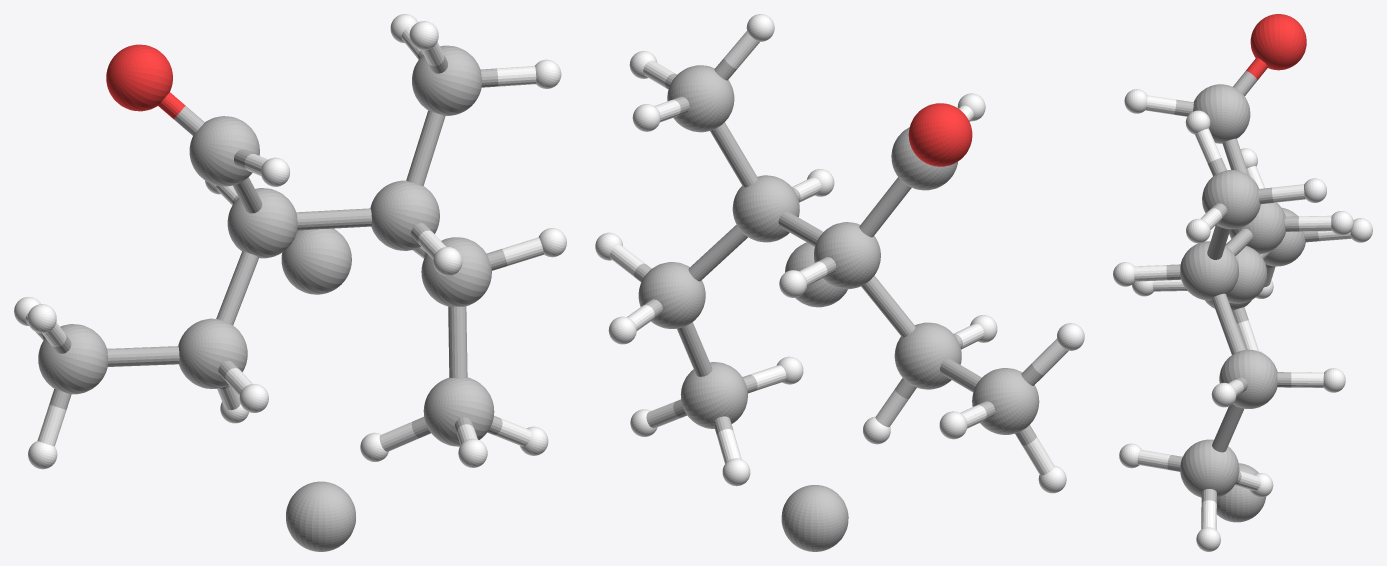
The model's file is 2 – etil – 3 – metil   Pentanal.fbx.
The picture shows the model from 3 angles, left to right: view 1: azimuth 30°, elevation 25°; view 2: azimuth 150°, elevation 25°; view 3: azimuth 270°, elevation 25°; orthographic projection. The views are drawn at different scales.
Parts seen in each view (by area): view 1: Carbon_ball, Carbon_ball.008, Carbon_mesh|Carbon_ball.008|Dupli|4, Carbon_mesh|Carbon_ball.008|Dupli|2, Carbon_mesh|Carbon_ball.008|Dupli|, Carbon_mesh|Carbon_ball.008|Dupli|1, Oxygen_mesh|Oxygen_ball.008|Dupli|, Carbon_mesh|Carbon_ball.008|Dupli|5, Carbon_mesh|Carbon_ball.008|Dupli|7, Carbon_mesh|Carbon_ball.008|Dupli|6, Carbon_mesh|Carbon_ball.008|Dupli|3, Hydrogen_mesh|Hydrogen_ball.008|Dupli|10 (+5 smaller); view 2: Carbon_ball, Carbon_mesh|Carbon_ball.008|Dupli|2, Carbon_mesh|Carbon_ball.008|Dupli|4, Carbon_mesh|Carbon_ball.008|Dupli|6, Oxygen_mesh|Oxygen_ball.008|Dupli|, Carbon_mesh|Carbon_ball.008|Dupli|7, Carbon_mesh|Carbon_ball.008|Dupli|3, Carbon_mesh|Carbon_ball.008|Dupli|, Carbon_mesh|Carbon_ball.008|Dupli|5, Carbon_mesh|Carbon_ball.008|Dupli|1, Carbon_ball.008, Hydrogen_mesh|Hydrogen_ball.008|Dupli|12 (+6 smaller); view 3: Carbon_mesh|Carbon_ball.008|Dupli|6, Carbon_mesh|Carbon_ball.008|Dupli|2, Carbon_mesh|Carbon_ball.008|Dupli|7, Oxygen_mesh|Oxygen_ball.008|Dupli|, Carbon_mesh|Carbon_ball.008|Dupli|3, Carbon_mesh|Carbon_ball.008|Dupli|1, Carbon_mesh|Carbon_ball.008|Dupli|, Carbon_ball.008, Carbon_ball, Carbon_mesh|Carbon_ball.008|Dupli|5, Hydrogen_mesh|Hydrogen_ball.008|Dupli|11, Hydrogen_mesh|Hydrogen_ball.008|Dupli|3 (+10 smaller).
Boxes of the visible parts, <box> form: Carbon_ball: <box>286,481,355,551</box>; Carbon_ball.008: <box>281,228,351,294</box>; Carbon_mesh|Carbon_ball.008|Dupli|4: <box>178,318,247,388</box>; Carbon_mesh|Carbon_ball.008|Dupli|2: <box>370,180,439,250</box>; Carbon_mesh|Carbon_ball.008|Dupli|: <box>227,188,297,258</box>; Carbon_mesh|Carbon_ball.008|Dupli|1: <box>189,116,259,186</box>; Oxygen_mesh|Oxygen_ball.008|Dupli|: <box>106,44,172,111</box>; Carbon_mesh|Carbon_ball.008|Dupli|5: <box>38,324,107,394</box>; Carbon_mesh|Carbon_ball.008|Dupli|7: <box>412,45,481,115</box>; Carbon_mesh|Carbon_ball.008|Dupli|6: <box>423,377,494,446</box>; Carbon_mesh|Carbon_ball.008|Dupli|3: <box>421,237,491,306</box>; Hydrogen_mesh|Hydrogen_ball.008|Dupli|10: <box>458,438,487,467</box>; Carbon_ball: <box>781,485,848,551</box>; Carbon_mesh|Carbon_ball.008|Dupli|2: <box>732,175,799,242</box>; Carbon_mesh|Carbon_ball.008|Dupli|4: <box>894,322,961,389</box>; Carbon_mesh|Carbon_ball.008|Dupli|6: <box>680,362,747,428</box>; Oxygen_mesh|Oxygen_ball.008|Dupli|: <box>908,103,972,166</box>; Carbon_mesh|Carbon_ball.008|Dupli|7: <box>667,65,734,132</box>; Carbon_mesh|Carbon_ball.008|Dupli|3: <box>638,262,705,328</box>; Carbon_mesh|Carbon_ball.008|Dupli|: <box>814,222,880,289</box>; Carbon_mesh|Carbon_ball.008|Dupli|5: <box>972,368,1039,434</box>; Carbon_mesh|Carbon_ball.008|Dupli|1: <box>891,127,957,190</box>; Carbon_ball.008: <box>785,242,847,307</box>; Hydrogen_mesh|Hydrogen_ball.008|Dupli|12: <box>722,458,750,486</box>; Carbon_mesh|Carbon_ball.008|Dupli|6: <box>1180,439,1239,497</box>; Carbon_mesh|Carbon_ball.008|Dupli|2: <box>1180,241,1238,300</box>; Carbon_mesh|Carbon_ball.008|Dupli|7: <box>1202,170,1260,229</box>; Oxygen_mesh|Oxygen_ball.008|Dupli|: <box>1250,14,1306,70</box>; Carbon_mesh|Carbon_ball.008|Dupli|3: <box>1219,349,1277,408</box>; Carbon_mesh|Carbon_ball.008|Dupli|1: <box>1193,84,1250,143</box>; Carbon_mesh|Carbon_ball.008|Dupli|: <box>1229,202,1285,254</box>; Carbon_ball.008: <box>1226,246,1267,303</box>; Carbon_ball: <box>1216,463,1266,522</box>; Carbon_mesh|Carbon_ball.008|Dupli|5: <box>1264,207,1305,266</box>; Hydrogen_mesh|Hydrogen_ball.008|Dupli|11: <box>1196,527,1220,551</box>; Hydrogen_mesh|Hydrogen_ball.008|Dupli|3: <box>1211,382,1236,407</box>.
Size of the model in its own units: 659 by 631 by 337.
